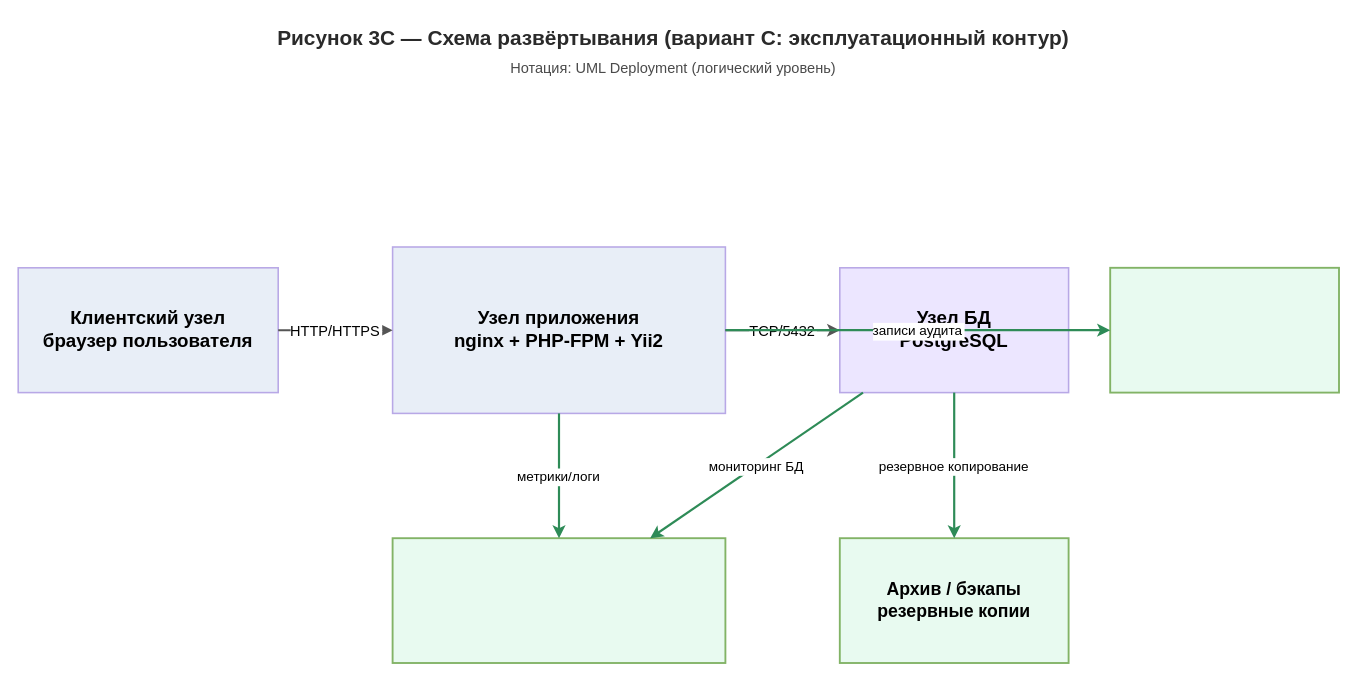
The diagram is 1358 pixels wide and 681 high, and some of its shapes have lost their labels. Each missing label, with the centre of its shape:
"Журнал аудита (в составе БД)" belongs at point 1224,329.
"Контур мониторинга логи, метрики, алерты" belongs at point 558,600.
